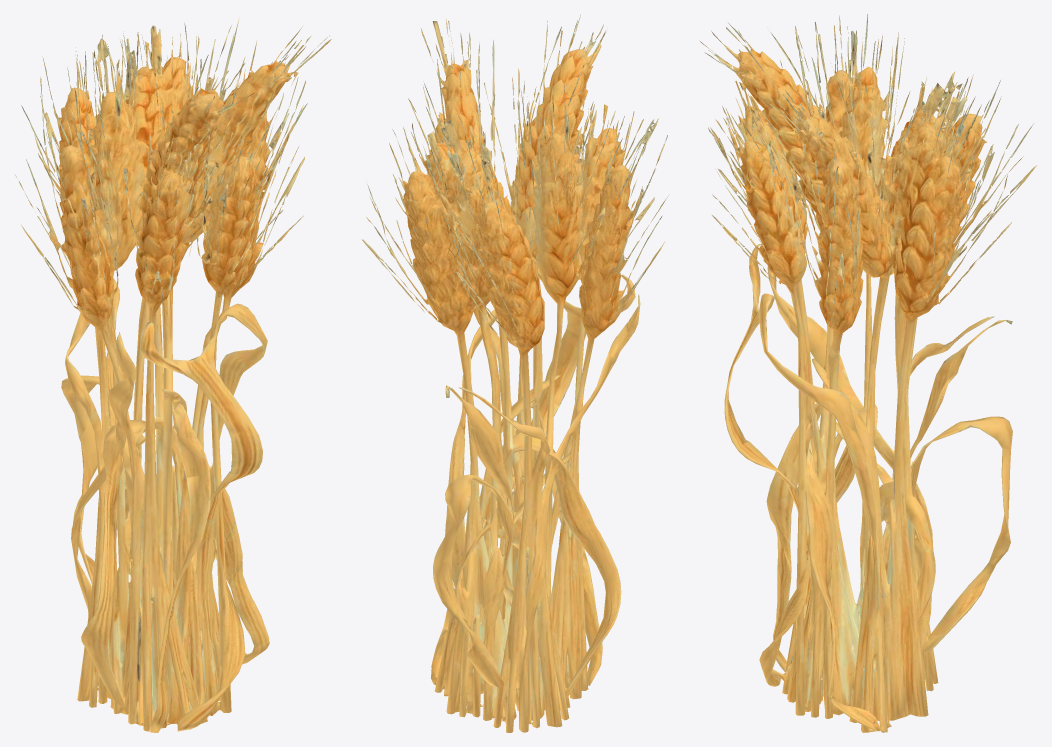
The model's file is wheat-mature.glb.
3 renders of one model, left to right at view 1: azimuth 30°, elevation 25°; view 2: azimuth 150°, elevation 25°; view 3: azimuth 270°, elevation 25°, orthographic. The views are drawn at different scales.
Visible parts, largest first — view 1: Mesh_0.002; view 2: Mesh_0.002; view 3: Mesh_0.002.
Part boxes in pixels (x1,y1,x2,y2): Mesh_0.002: [15, 18, 331, 732]; Mesh_0.002: [361, 15, 667, 732]; Mesh_0.002: [700, 14, 1037, 732].
Bounding box in the file's own units: 0.4069 × 0.9 × 0.4107.
1 material, 1 textured.
